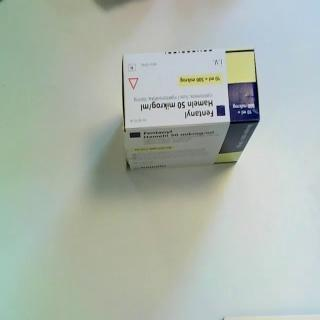fentanyl50ug_ml: (121, 45, 262, 173)
